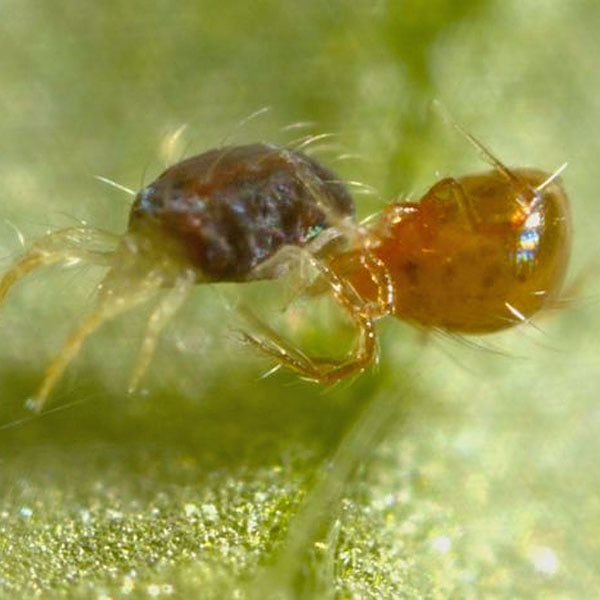Mites: (295, 74, 600, 433), (61, 92, 337, 419)
